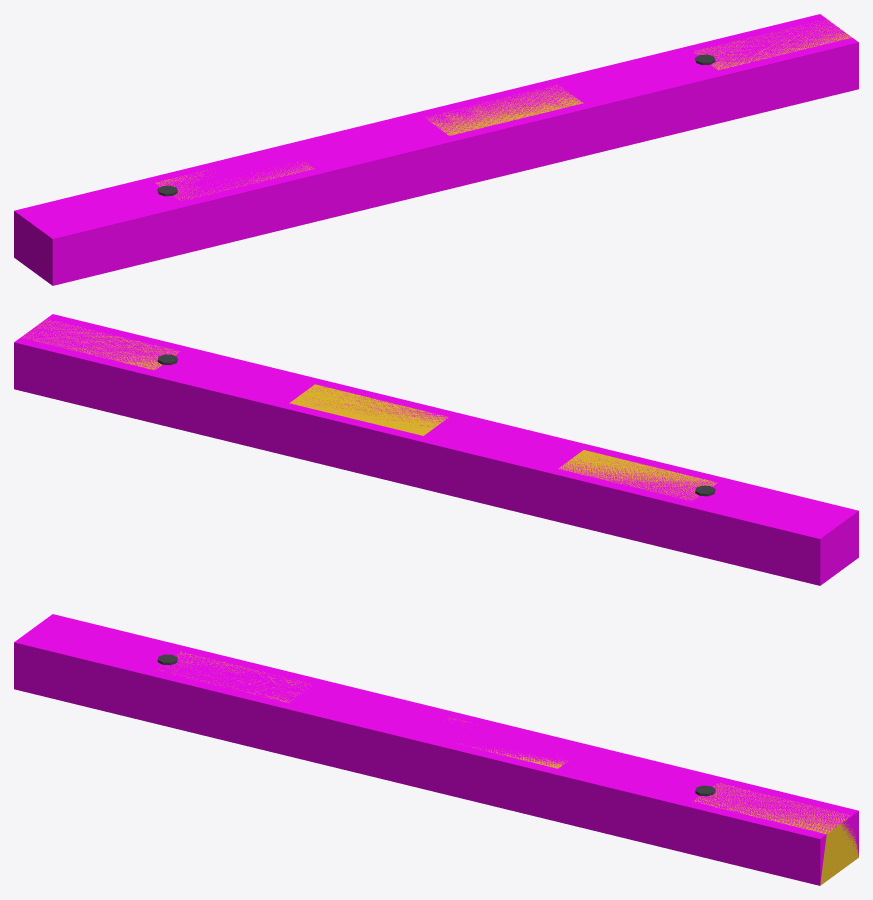
Rendered from EN_Park_WheelStop.fbx.
3 views of the same model, one above another, from view 1: azimuth 30°, elevation 25°; view 2: azimuth 150°, elevation 25°; view 3: azimuth 330°, elevation 25° (orthographic).
Visible parts, largest first — view 1: COL_Body, EN_Park_WheelStop_Mesh; view 2: COL_Body, EN_Park_WheelStop_Mesh; view 3: COL_Body, EN_Park_WheelStop_Mesh.
Part boxes in pixels (x1=…): COL_Body: x1=14, y1=14, x2=858, y2=285; EN_Park_WheelStop_Mesh: x1=155, y1=20, x2=851, y2=200; COL_Body: x1=14, y1=314, x2=858, y2=585; EN_Park_WheelStop_Mesh: x1=22, y1=319, x2=717, y2=500; COL_Body: x1=14, y1=614, x2=858, y2=885; EN_Park_WheelStop_Mesh: x1=156, y1=651, x2=858, y2=885.
Size of the model in its own units: 1.8 by 0.105 by 0.15.
